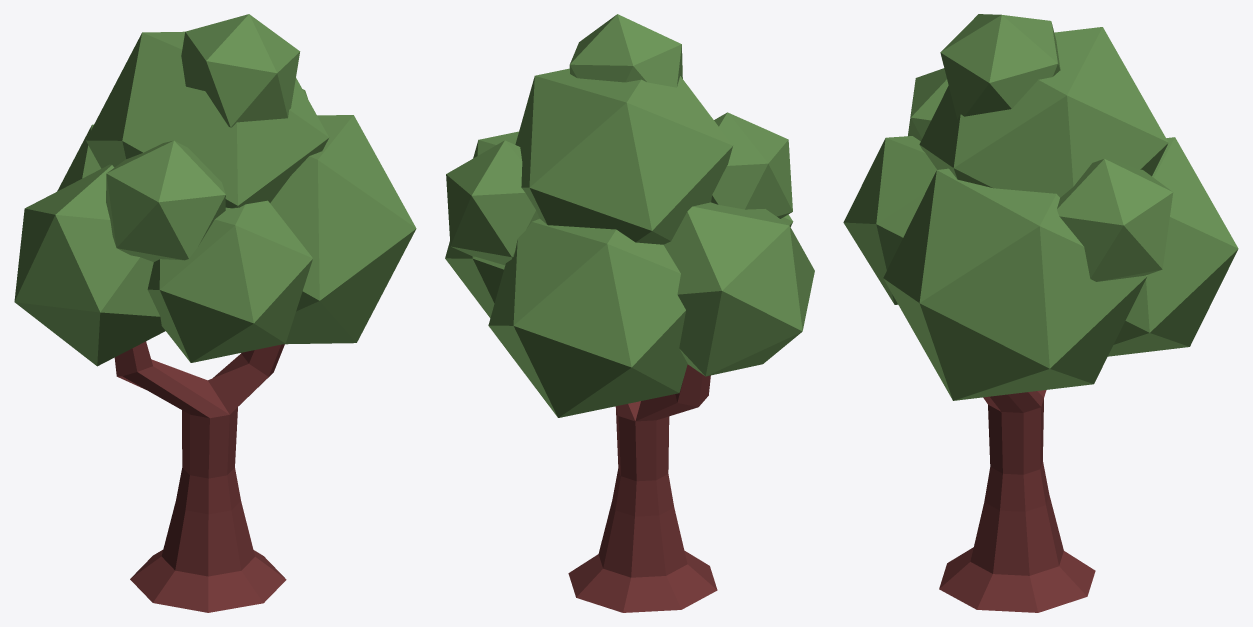
Rendered from Sedang00.fbx.
3 renders of one model, left to right at view 1: azimuth 30°, elevation 25°; view 2: azimuth 150°, elevation 25°; view 3: azimuth 270°, elevation 25°, orthographic. The views are drawn at different scales.
Parts seen in each view (by area): view 1: Icosphere.002; view 2: Icosphere.002; view 3: Icosphere.002.
Part boxes in pixels (left/top/right/bottom): Icosphere.002: left=14, top=14, right=416, bottom=612; Icosphere.002: left=445, top=14, right=814, bottom=612; Icosphere.002: left=843, top=14, right=1238, bottom=612.
Bounding box in the file's own units: 344 × 510 × 313.
